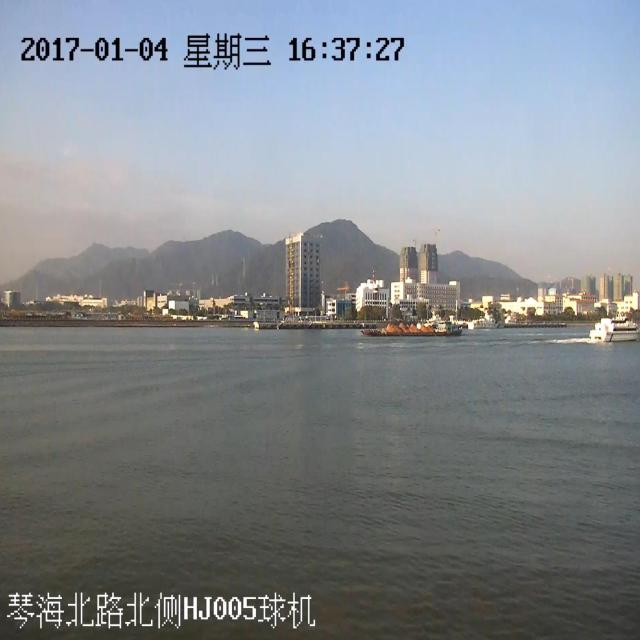cargoship: (365, 315, 461, 346)
passenger ship: (581, 300, 640, 350)
